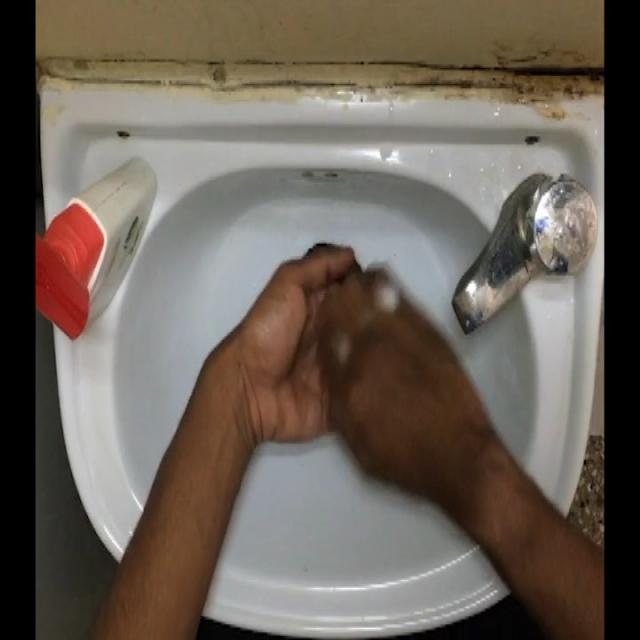step_4: (242, 223, 456, 475)
